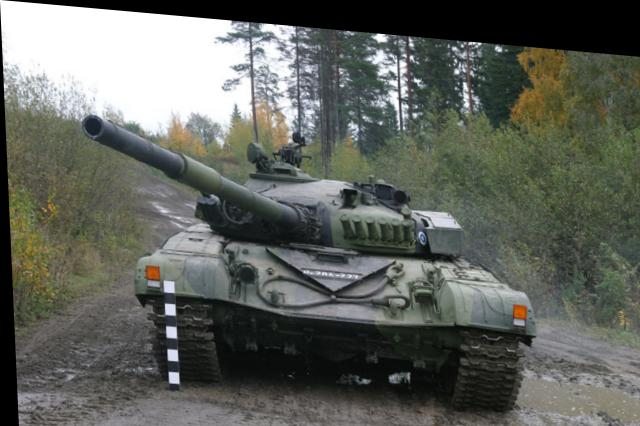tank: (132, 138, 532, 398)
